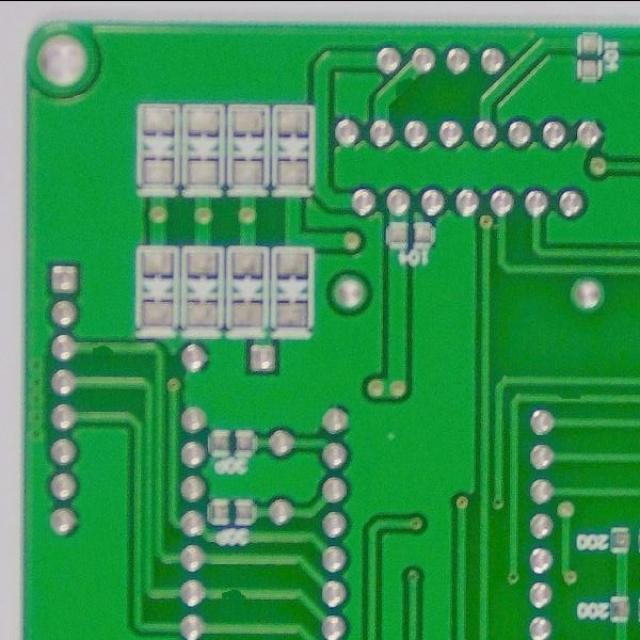MouseBite: (213, 580, 254, 604), (551, 388, 591, 407), (84, 338, 120, 359), (388, 72, 416, 98)
